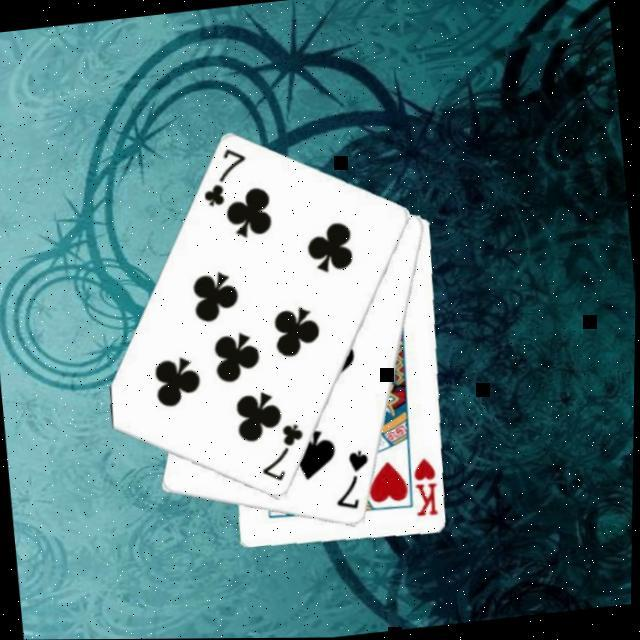7C: (194, 146, 252, 213), (253, 421, 310, 488)
7S: (327, 448, 376, 516)
KH: (407, 456, 443, 523)
